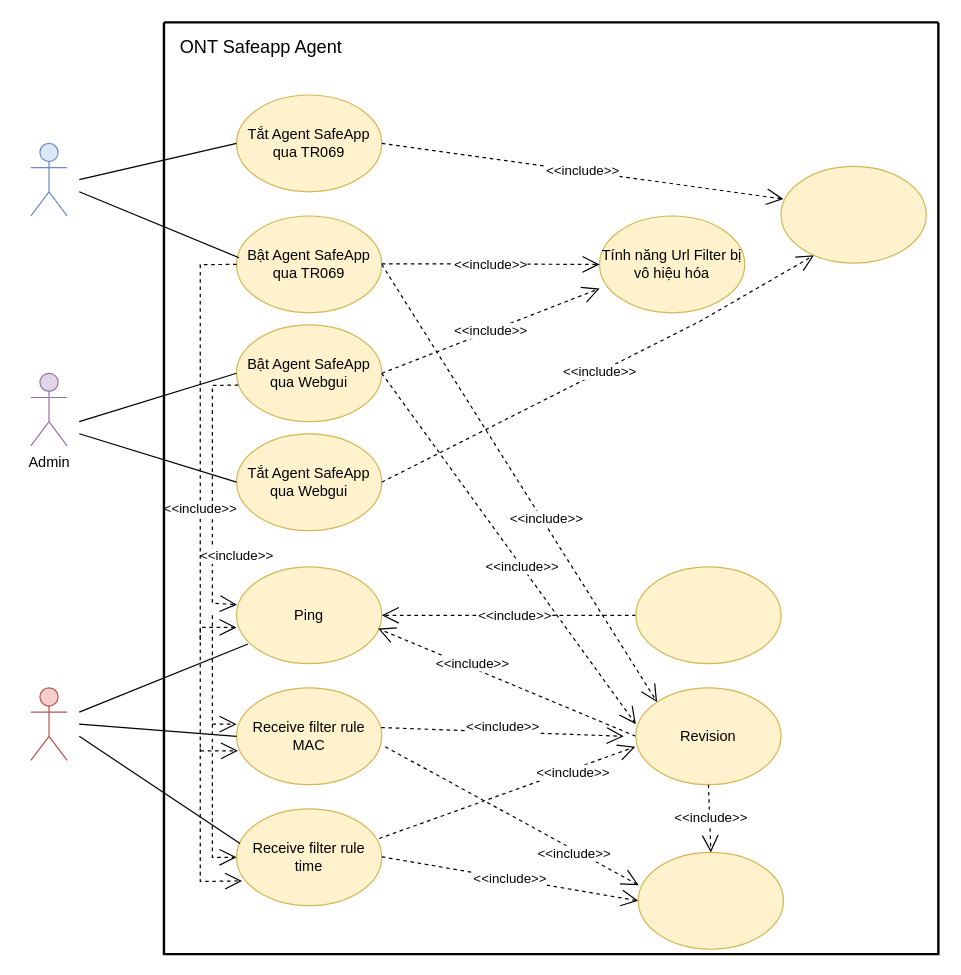
The diagram is 961 pixels wide and 975 high, and some of its shapes have lost their labels. The shapes that lost their labels are listed below. From the top down, each one's box as (x1, y1, x2, y2) in pixels, then its label:
(30, 142, 67, 216): Operator
(780, 165, 926, 263): Tính năng Url Filter hoạt động bình thường
(635, 566, 781, 664): Secret key
(30, 687, 67, 760): Backend
(637, 851, 783, 949): Apply filter rule
